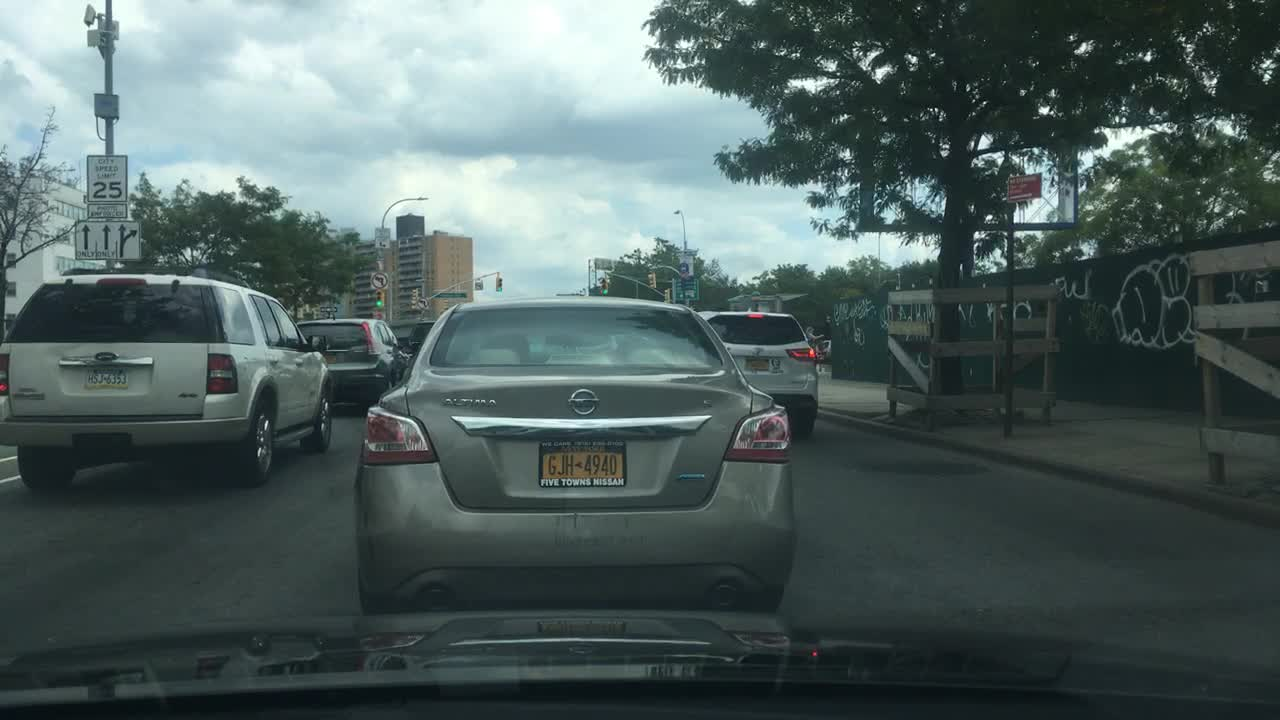car: (354, 296, 797, 621), (0, 268, 333, 491), (696, 310, 819, 436), (295, 319, 408, 405), (396, 320, 435, 361), (816, 336, 834, 361)
traffic light: (373, 291, 385, 308), (410, 288, 417, 310), (495, 275, 504, 291), (600, 277, 607, 295), (647, 272, 656, 286)
traffic sign: (87, 153, 127, 217), (74, 222, 140, 259), (1005, 174, 1041, 199), (676, 279, 697, 301), (374, 228, 391, 247), (371, 272, 389, 288), (437, 291, 466, 299), (416, 296, 431, 310), (678, 263, 690, 278), (319, 304, 338, 313)
